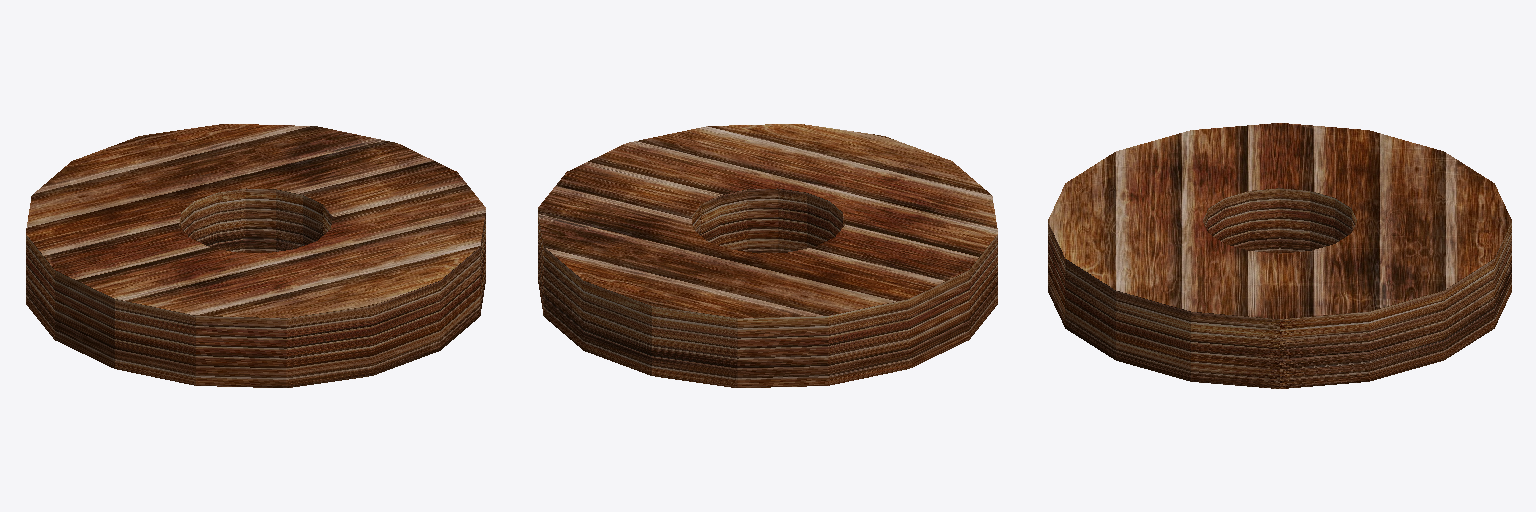
The picture shows the model from 3 angles: view 1: azimuth 30°, elevation 25°; view 2: azimuth 150°, elevation 25°; view 3: azimuth 270°, elevation 25°; orthographic projection.
Parts seen in each view (by area): view 1: _Geometry_0; view 2: _Geometry_0; view 3: _Geometry_0.
Boxes of the visible parts, box(x1,y1,x2,y2) form: _Geometry_0: box(26, 124, 485, 387); _Geometry_0: box(538, 124, 997, 387); _Geometry_0: box(1048, 123, 1511, 388).
Bounding box in the file's own units: 6 × 1 × 6.
1 materials, 1 textured.